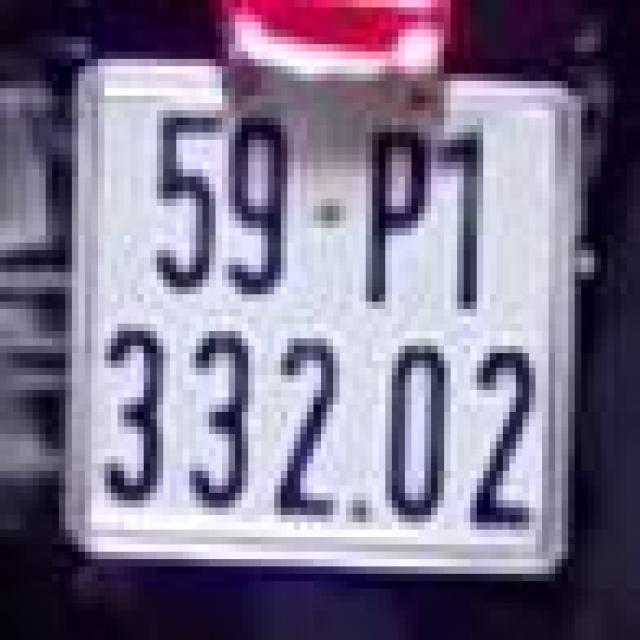0: (376, 327, 460, 541)
1: (438, 110, 497, 316)
2: (268, 316, 346, 537), (460, 335, 539, 533)
3: (92, 316, 176, 522), (183, 320, 255, 511)
5: (140, 96, 226, 302)
9: (225, 96, 291, 309)
P: (350, 110, 434, 309)
